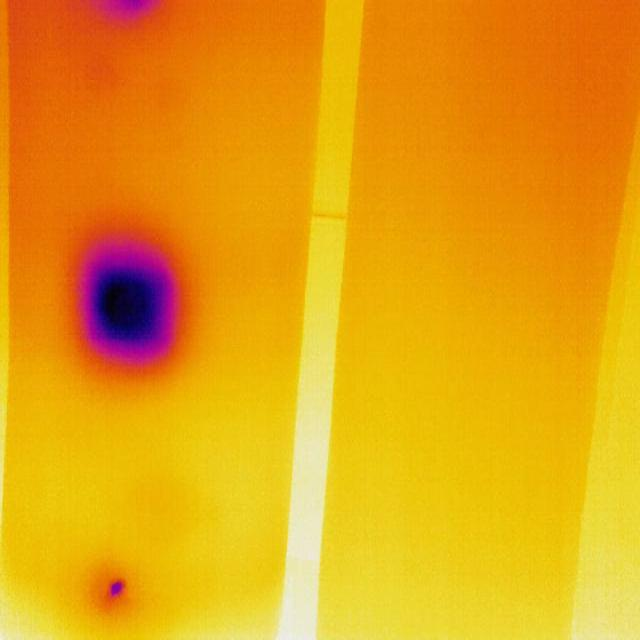leakage: (78, 230, 181, 370), (102, 0, 156, 22), (102, 571, 130, 608)
